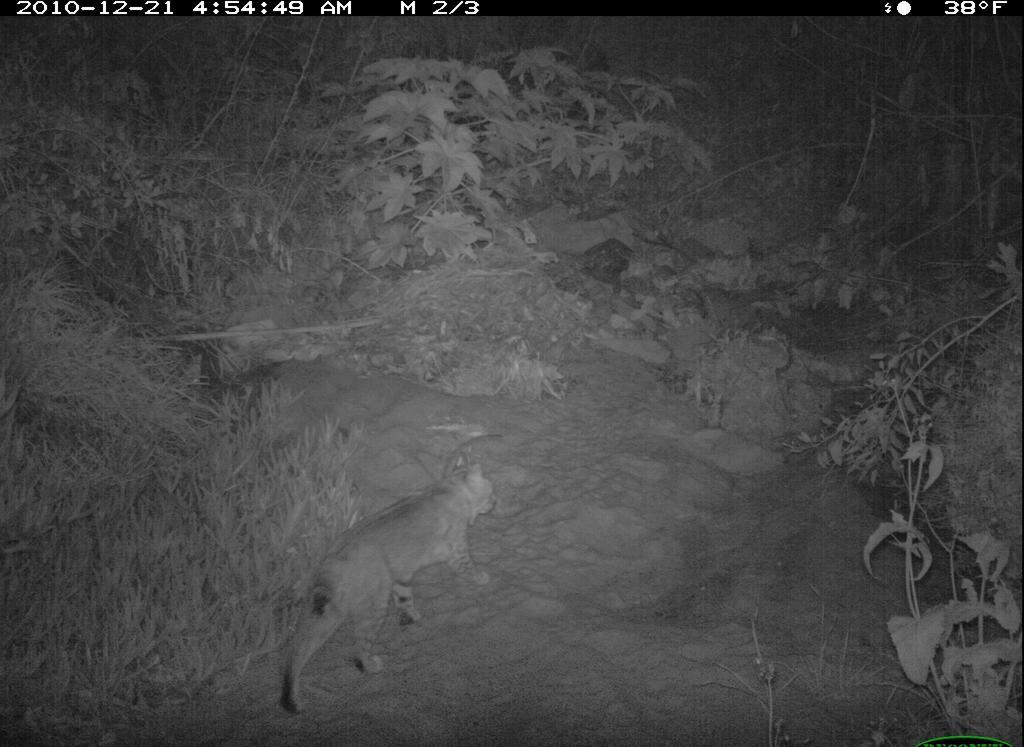bobcat: (268, 452, 525, 728)
